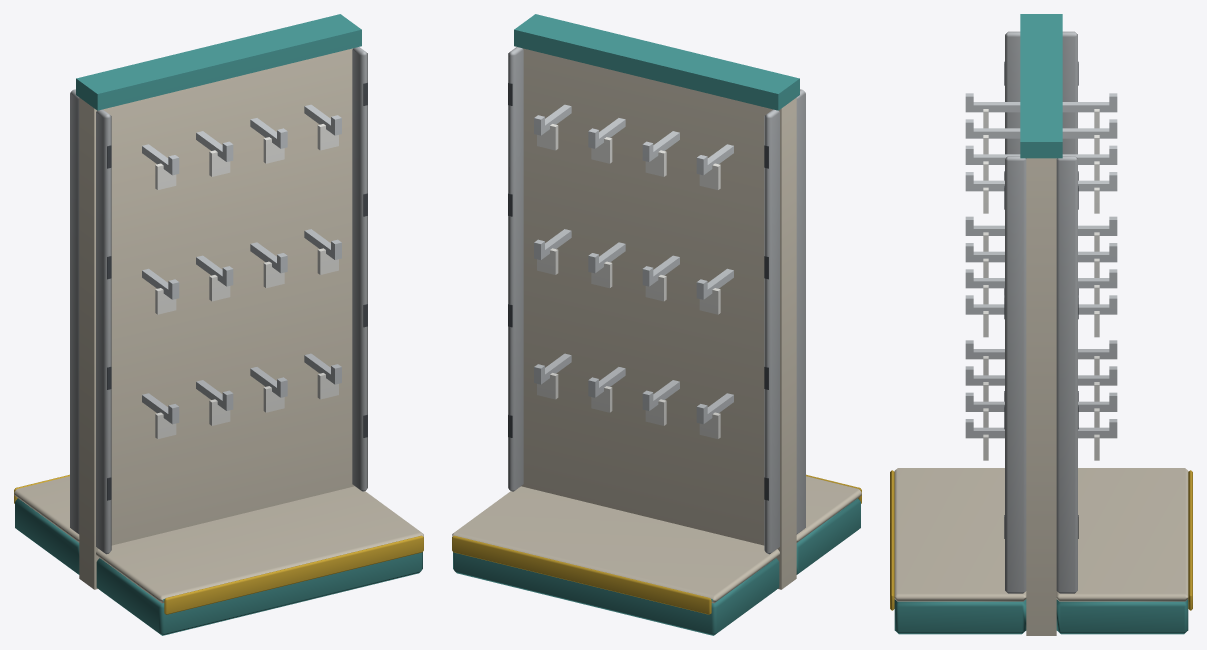
The model's file is Gondola_Island_Peg_10.glb.
The picture shows the model from 3 angles, left to right: view 1: azimuth 30°, elevation 25°; view 2: azimuth 150°, elevation 25°; view 3: azimuth 270°, elevation 25°; orthographic projection.
Parts seen in each view (by area): view 1: SM_Gondola_Island_Peg_10; view 2: SM_Gondola_Island_Peg_10; view 3: SM_Gondola_Island_Peg_10.
Boxes of the visible parts, x1=… form: SM_Gondola_Island_Peg_10: x1=14, y1=14, x2=423, y2=635; SM_Gondola_Island_Peg_10: x1=452, y1=14, x2=861, y2=635; SM_Gondola_Island_Peg_10: x1=890, y1=14, x2=1192, y2=635.
Bounding box in the file's own units: 1 × 1.8 × 1.
1 material, 1 textured.
